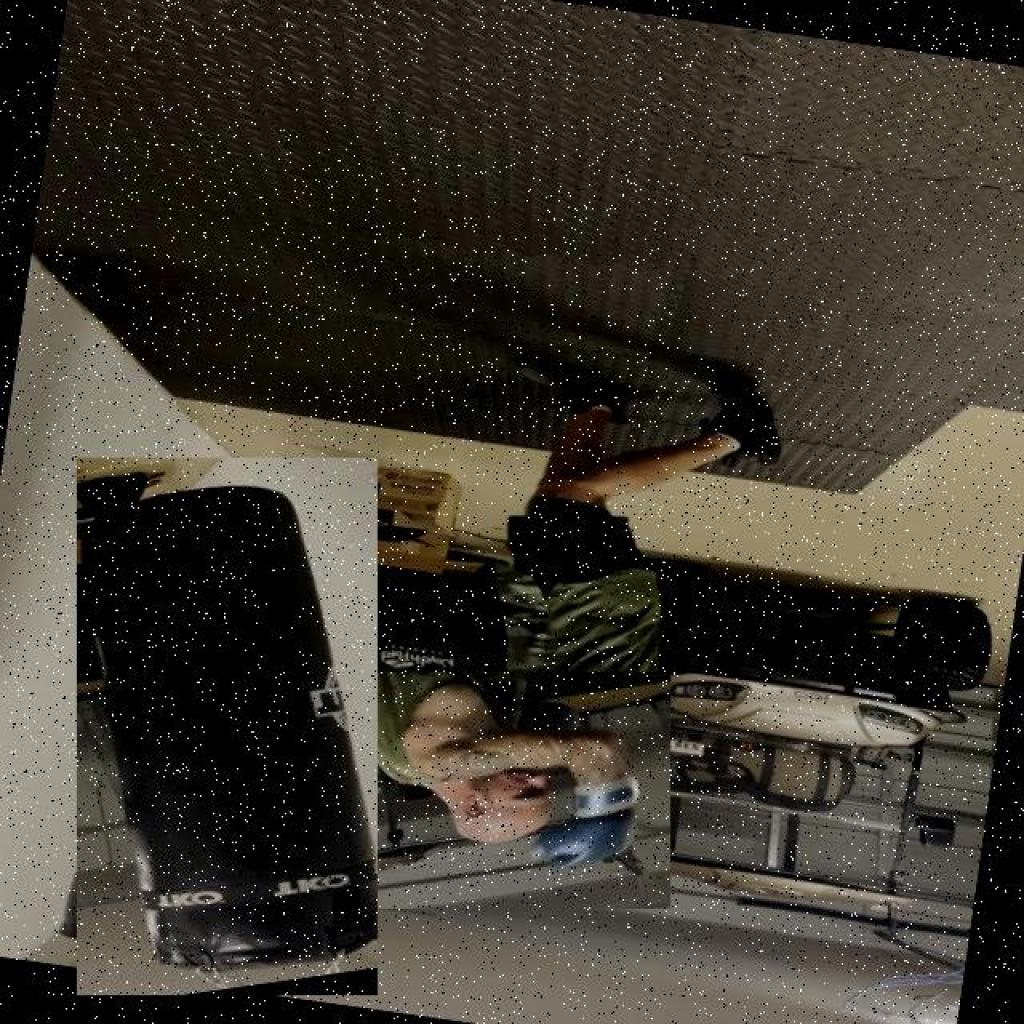bag: (77, 458, 378, 994)
uppercut: (364, 672, 670, 909)
